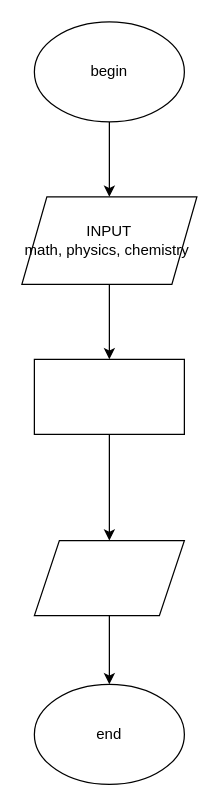
The diagram is 219 pixels wide and 806 high, and some of its shapes have lost their labels. The centre of each missing label's shape, as x and y in pixels:
Arg = (math + physics + chemistry) /3: point 108,396
OUTPUT Arg: point 108,577
